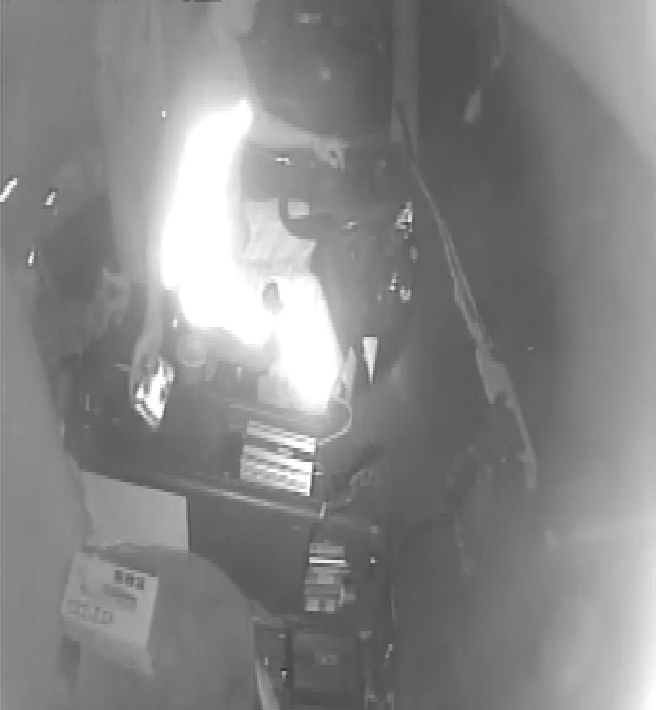cellphone: (130, 345, 174, 430)
